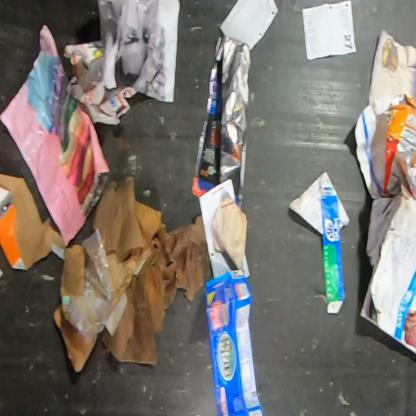cardboard: (51, 175, 212, 373), (206, 269, 264, 415), (0, 172, 64, 270), (321, 184, 346, 315), (210, 192, 248, 272)
soft_plastic: (381, 94, 415, 196)
